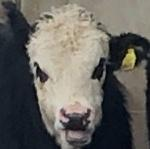muzzles: (50, 106, 99, 146)
